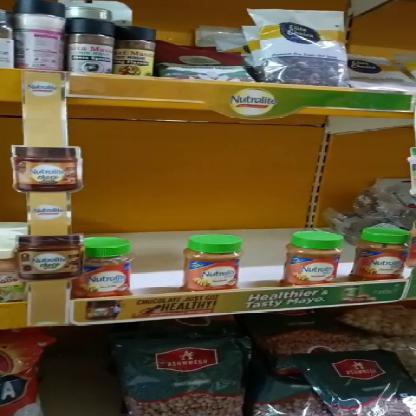Nutralite TANDOORI MAYO 300g-275g-25g-: (184, 231, 236, 291), (80, 240, 132, 297), (286, 232, 342, 283), (360, 226, 412, 280)
